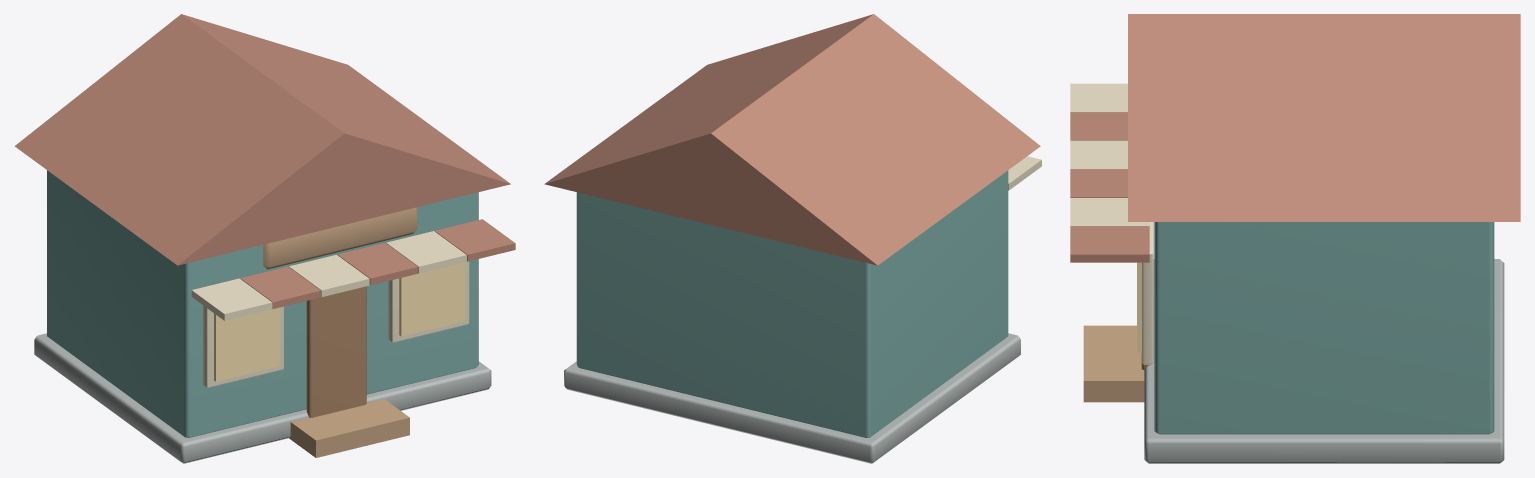
The model's file is bakery.glb.
3 renders of one model, left to right at view 1: azimuth 30°, elevation 25°; view 2: azimuth 150°, elevation 25°; view 3: azimuth 270°, elevation 25°, orthographic. The views are drawn at different scales.
Visible parts, largest first — view 1: Bakery roof, Mint shopfront, Bakery foundation, Bakery door, Shop step, Bakery signboard, Shop window.001, Shop window, Striped awning, Striped awning.003, Striped awning.004, Striped awning.005 (+4 smaller); view 2: Mint shopfront, Bakery roof, Bakery foundation, Striped awning; view 3: Bakery roof, Mint shopfront, Bakery foundation, Shop step, Striped awning.005, Striped awning.004, Striped awning, Striped awning.002, Striped awning.001, Striped awning.003, Shop window frame.001.
Boxes of the visible parts, x1=… form: Bakery roof: x1=14, y1=14, x2=510, y2=265; Mint shopfront: x1=47, y1=170, x2=478, y2=437; Bakery foundation: x1=34, y1=333, x2=491, y2=463; Bakery door: x1=306, y1=286, x2=366, y2=417; Shop step: x1=289, y1=399, x2=409, y2=457; Bakery signboard: x1=263, y1=207, x2=417, y2=269; Shop window.001: x1=399, y1=262, x2=465, y2=336; Shop window: x1=214, y1=307, x2=279, y2=381; Striped awning: x1=191, y1=278, x2=272, y2=320; Striped awning.003: x1=337, y1=243, x2=418, y2=285; Striped awning.004: x1=386, y1=231, x2=466, y2=273; Striped awning.005: x1=434, y1=219, x2=515, y2=261; Mint shopfront: x1=576, y1=170, x2=1008, y2=437; Bakery roof: x1=544, y1=14, x2=1040, y2=265; Bakery foundation: x1=564, y1=333, x2=1020, y2=463; Striped awning: x1=1008, y1=156, x2=1041, y2=190; Bakery roof: x1=1128, y1=14, x2=1520, y2=221; Mint shopfront: x1=1154, y1=222, x2=1494, y2=434; Bakery foundation: x1=1144, y1=259, x2=1504, y2=463; Shop step: x1=1083, y1=325, x2=1144, y2=402; Striped awning.005: x1=1070, y1=226, x2=1149, y2=262; Striped awning.004: x1=1070, y1=198, x2=1149, y2=226; Striped awning: x1=1070, y1=83, x2=1127, y2=112; Striped awning.002: x1=1070, y1=140, x2=1127, y2=169; Striped awning.001: x1=1070, y1=112, x2=1127, y2=140; Striped awning.003: x1=1070, y1=169, x2=1127, y2=197; Shop window frame.001: x1=1142, y1=222, x2=1153, y2=364.
Bounding box in the file's own units: 5.15 × 4.42 × 5.
